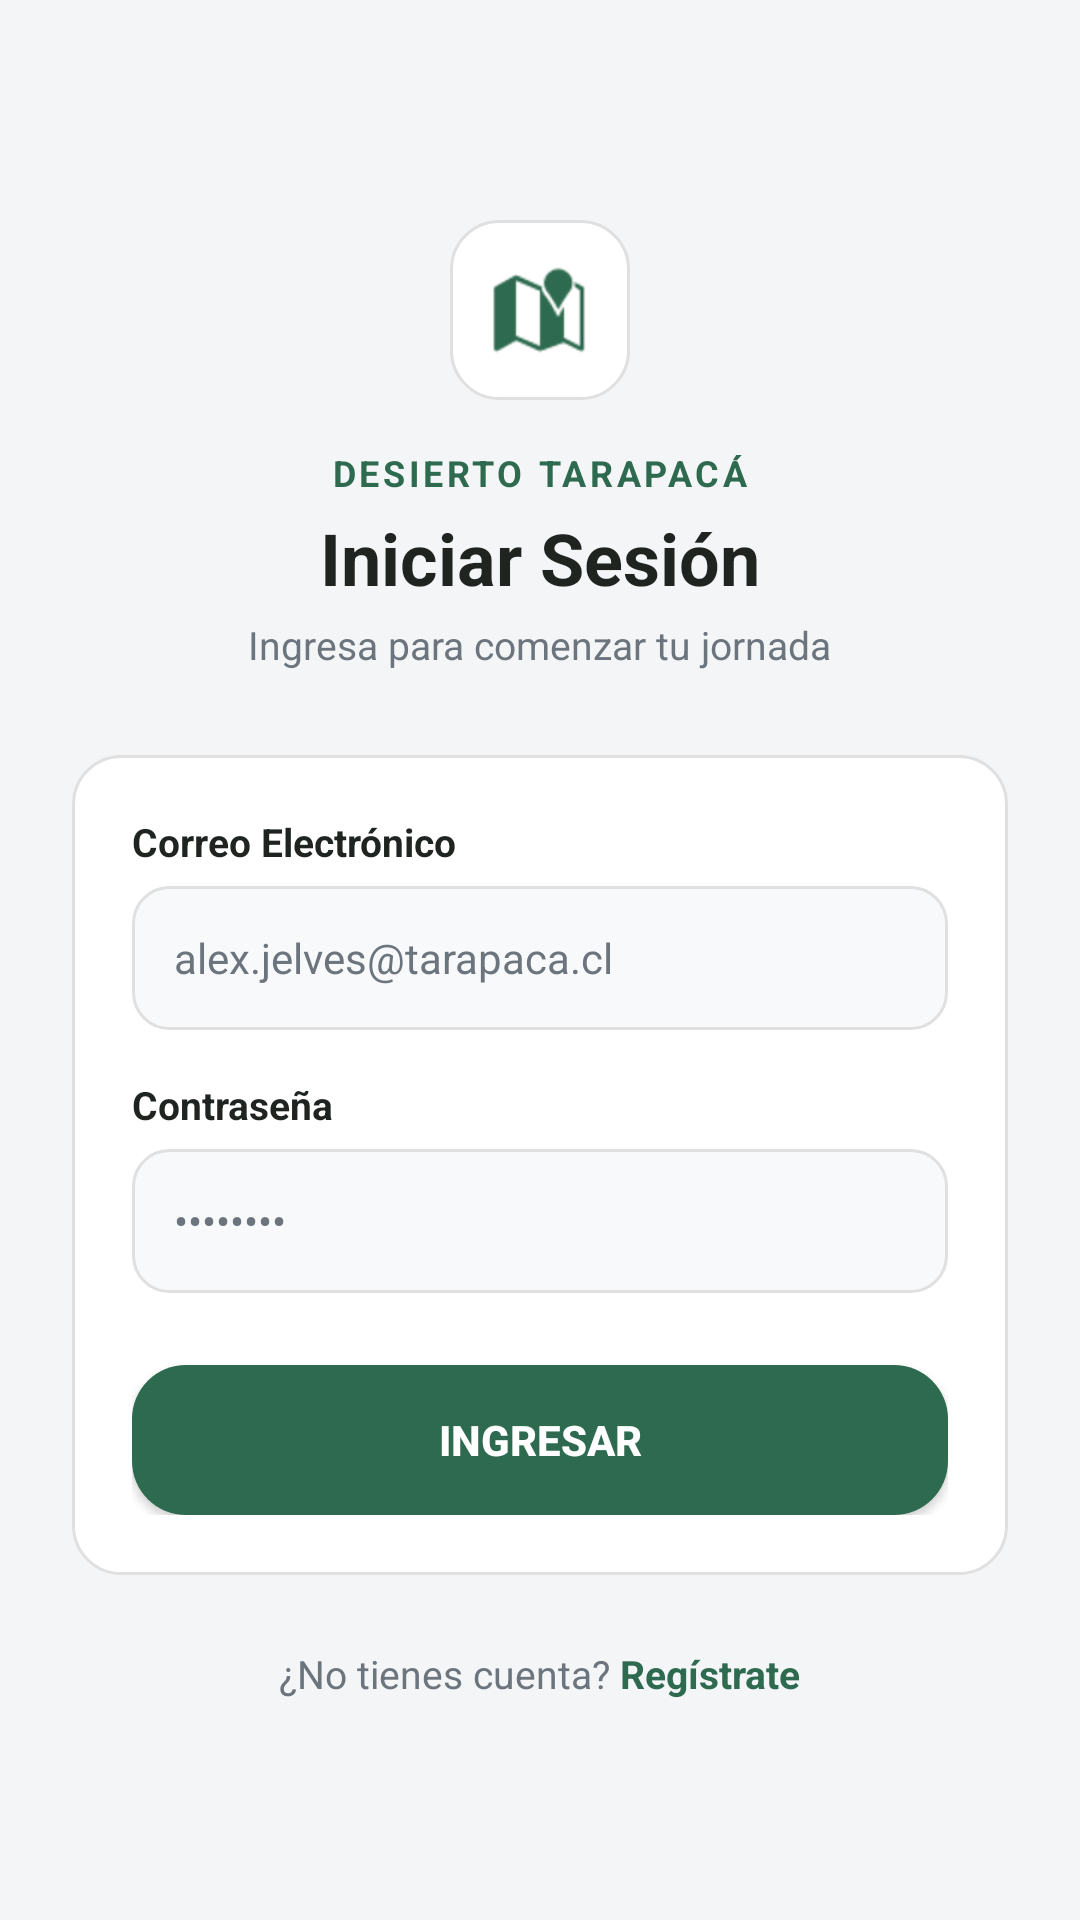

Named icons in this screenshot (1080 x 1920) and their bounding boxes, (x1, y1, x2, y2):
map: (493, 268, 585, 352)
